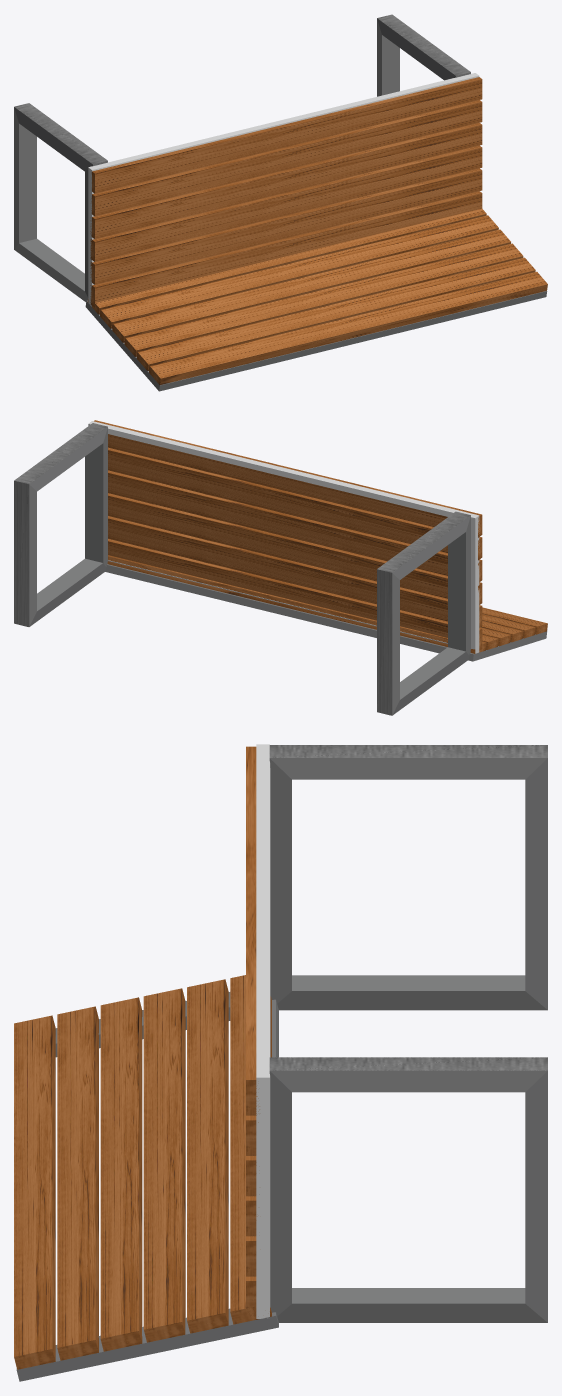
File: скамейка_детская_площадка_без_подложки.glb
3 renders of one model, top to bottom at view 1: azimuth 30°, elevation 25°; view 2: azimuth 150°, elevation 25°; view 3: azimuth 270°, elevation 25°, orthographic. The views are drawn at different scales.
Visible parts, largest first — view 1: Куб.013, Cube.001, Куб; view 2: Куб.013, Cube.001, Куб; view 3: Куб.013, Cube.001, Куб.
Part boxes in pixels (x1,y1,x2,y2): Куб.013: (87, 77, 547, 384); Cube.001: (14, 14, 547, 391); Куб: (88, 73, 479, 306); Куб.013: (94, 420, 547, 653); Cube.001: (14, 423, 547, 715); Куб: (88, 421, 479, 653); Куб.013: (14, 746, 271, 1369); Cube.001: (16, 745, 547, 1381); Куб: (256, 744, 270, 1318).
Bounding box in the file's own units: 3.2 × 1.38 × 2.17.
Materials: 2 (2 with a texture image).
